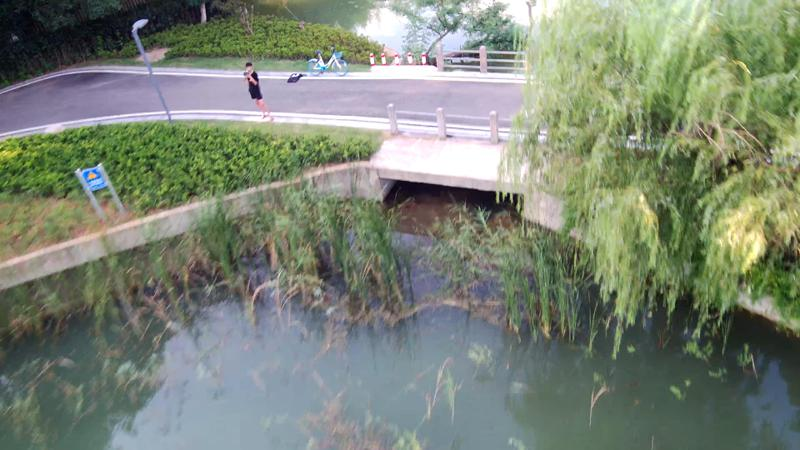passerby: (242, 61, 274, 121)
